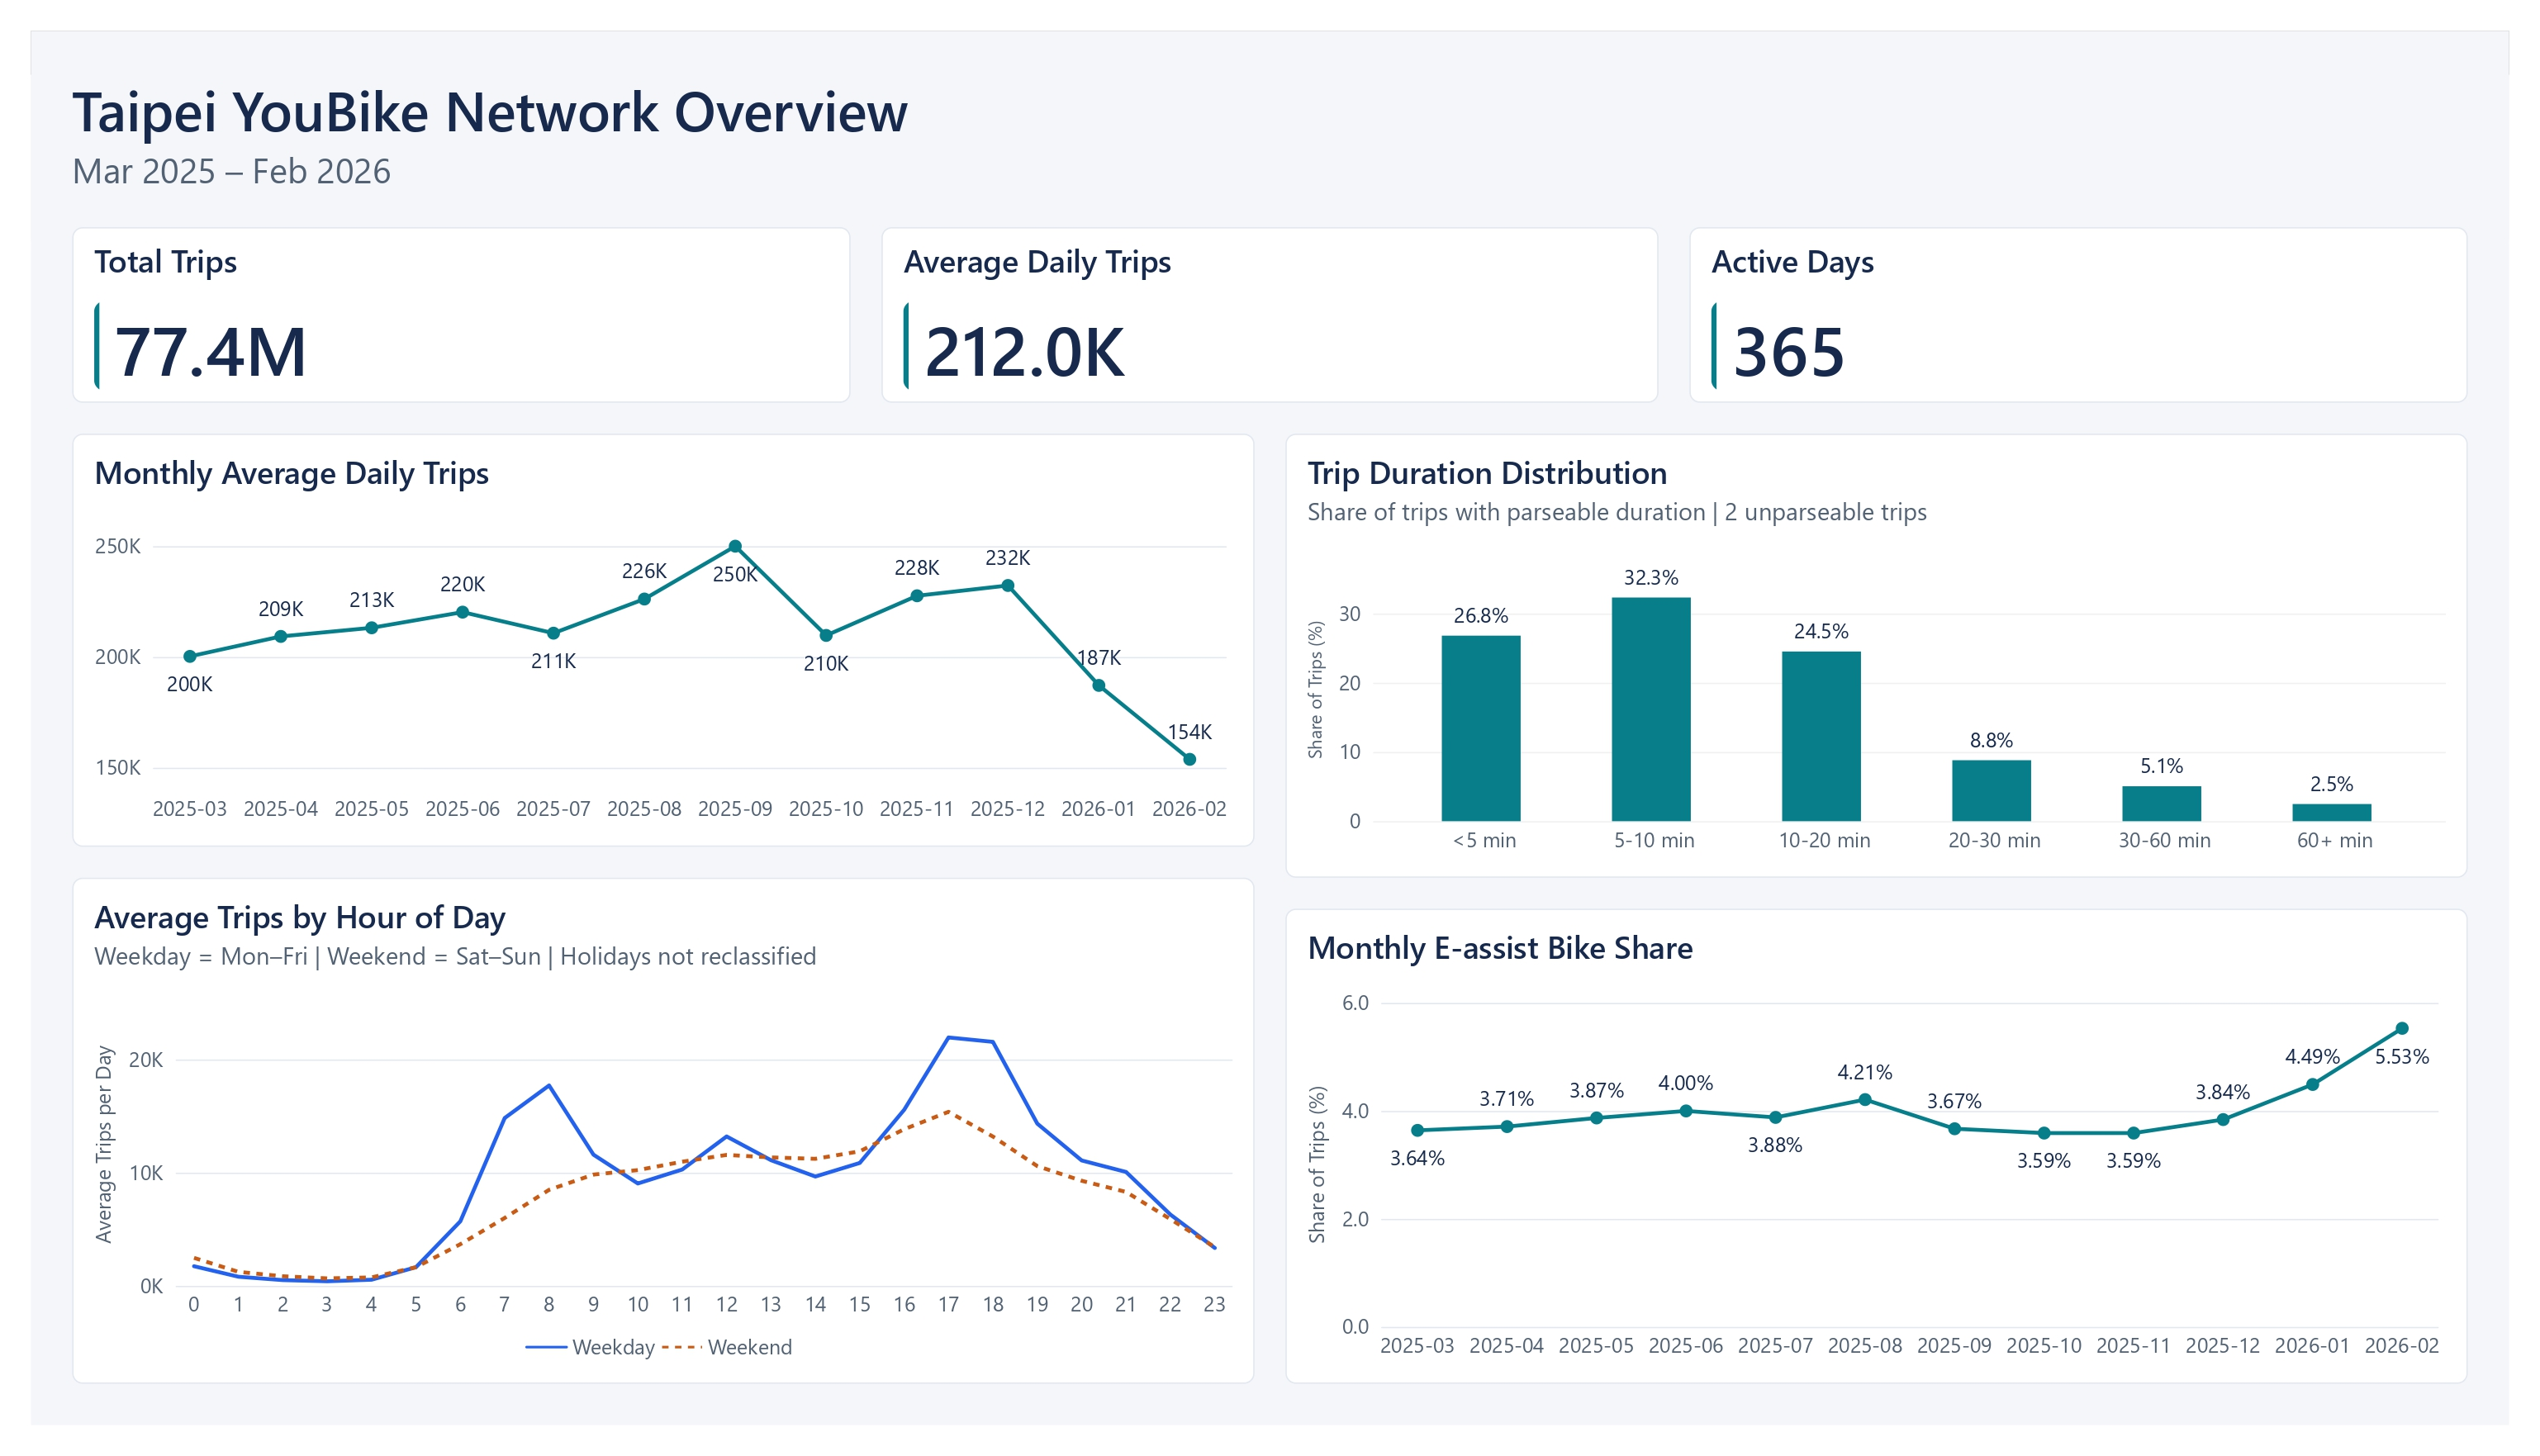

The dashboard page shown, as its layout file describes it:
{"tool":"powerbi","page":{"name":"Page 1","canvas":[1920,1080],"ordinal":0},"visuals":[{"type":"cardVisual","title":"Total Trips","fields":{"Data":["Sum(vw_network_kpis.total_trips)"]},"box":[138,176.7,279.9,117.3],"z":0},{"type":"cardVisual","title":" Average Daily Trips","fields":{"Data":["Sum(vw_network_kpis.avg_daily_trips)"]},"box":[500.6,176.7,279.9,117.3],"z":1},{"type":"lineChart","title":"Monthly Average Daily Trips","fields":{"Category":["vw_monthly_usage.month_start"],"Y":["Sum(vw_monthly_usage.avg_daily_trips)"]},"box":[138,322.1,820.9,333.1],"z":2},{"type":"lineChart","title":"Hourly Usage: Weekday vs Weekend","fields":{"Category":["vw_hourly_usage.hour_of_day"],"Series":["vw_hourly_usage.day_type"],"Y":["Sum(vw_hourly_usage.avg_hourly_trips)"]},"box":[138,695.7,822.7,333.1],"z":3},{"type":"columnChart","title":"Trip Duration Distribution","fields":{"Category":["vw_duration_distribution.duration_bucket"],"Y":["Sum(vw_duration_distribution.trip_share_pct)"]},"box":[984.7,322.1,817.2,333.1],"z":4},{"type":"lineChart","title":"Monthly E-assist Bike Share","fields":{"Category":["vw_bike_type_monthly.month_start"],"Y":["Sum(vw_bike_type_monthly.monthly_share_pct)"]},"box":[984.7,695.7,820.9,333.1],"z":5},{"type":"textbox","box":[138,31.3,780.4,119.6],"z":6},{"type":"cardVisual","title":"Active Days","fields":{"Data":["Sum(vw_network_kpis.active_days)"]},"box":[865,176.7,279.9,117.3],"z":7}]}

Visuals, with their boxes on the page's 1920x1080 design canvas (x1, y1, x2, y2). These are canvas units, not pixel positions in the 2540x1456 screenshot, which may show the page scaled, cropped or inside an application window:
"Total Trips" cardVisual: box=[138, 177, 418, 294]
" Average Daily Trips" cardVisual: box=[501, 177, 780, 294]
"Monthly Average Daily Trips" lineChart: box=[138, 322, 959, 655]
"Hourly Usage: Weekday vs Weekend" lineChart: box=[138, 696, 961, 1029]
"Trip Duration Distribution" columnChart: box=[985, 322, 1802, 655]
"Monthly E-assist Bike Share" lineChart: box=[985, 696, 1806, 1029]
textbox: box=[138, 31, 918, 151]
"Active Days" cardVisual: box=[865, 177, 1145, 294]
